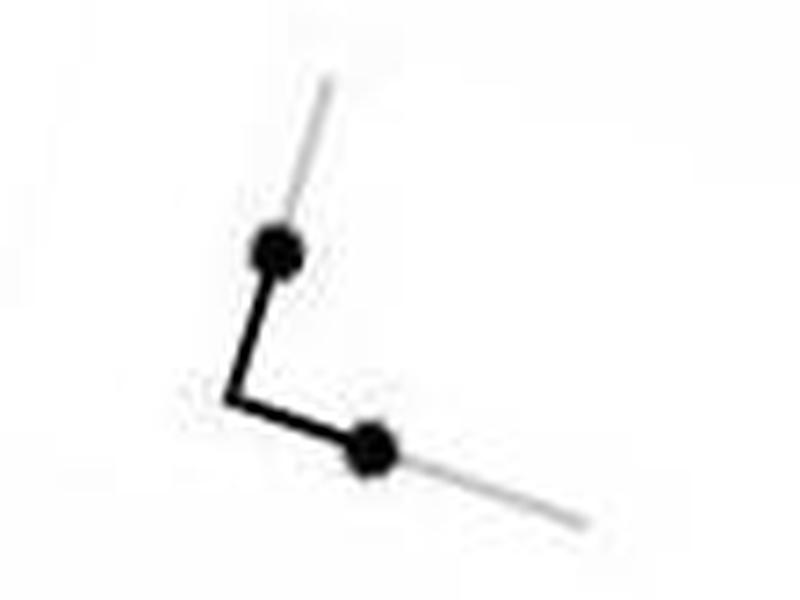butt_weld_90: (202, 68, 650, 541)
